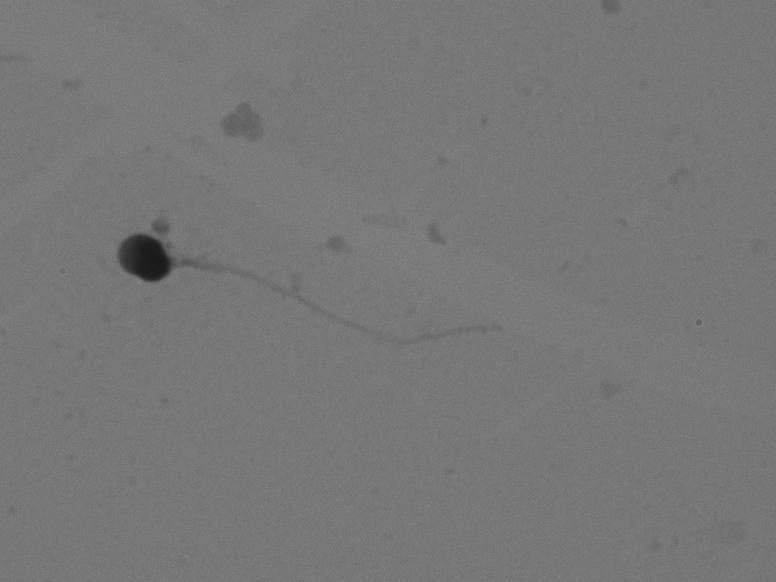Abnormal: (91, 213, 516, 370)
